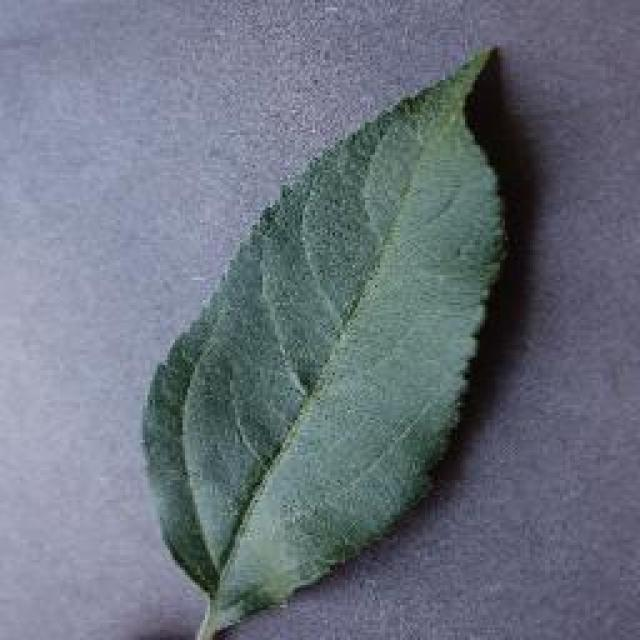apple healthy: (135, 42, 517, 638)
